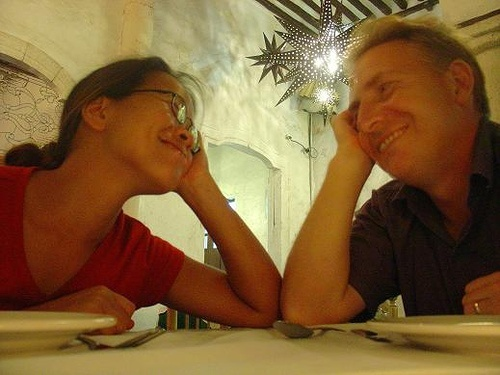head: (341, 18, 492, 182), (58, 55, 209, 194)
person: (2, 54, 279, 350), (277, 19, 500, 321)
